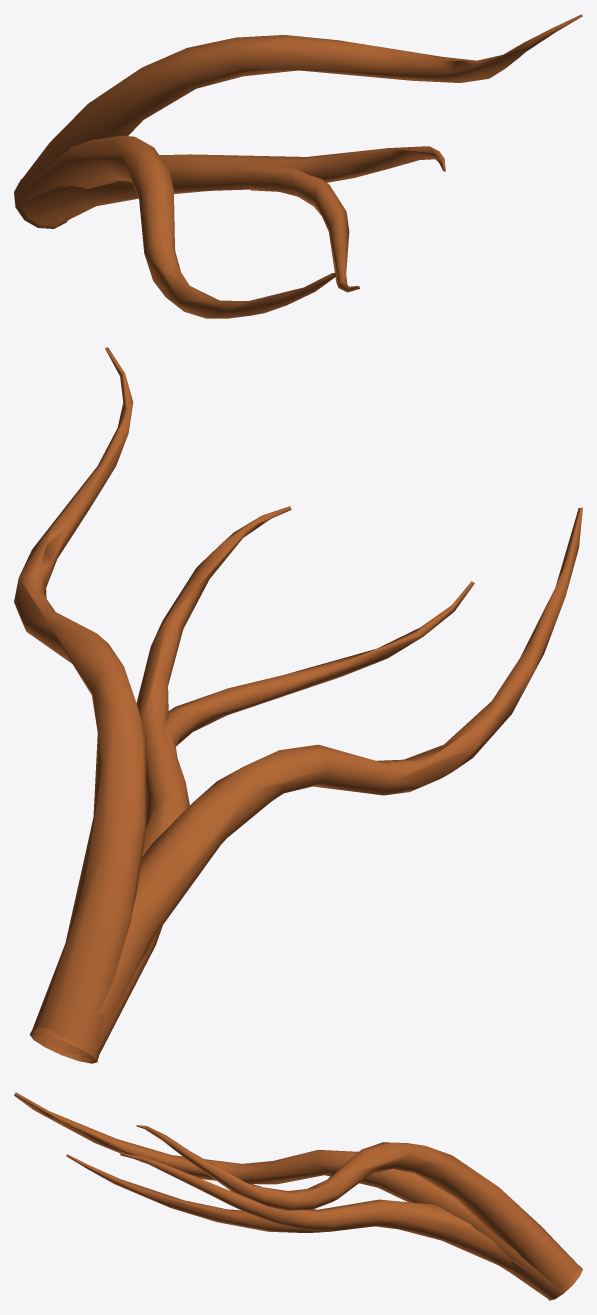
The model's file is arrayan_branch_4_LOD.fbx.
3 views of the same model, one above another, from view 1: azimuth 30°, elevation 25°; view 2: azimuth 150°, elevation 25°; view 3: azimuth 270°, elevation 25° (orthographic). The views are drawn at different scales.
Visible parts, largest first — view 1: brunch_4_LOD0; view 2: brunch_4_LOD0; view 3: brunch_4_LOD0.
Part boxes in pixels (x1,y1,x2,y2): brunch_4_LOD0: (14,14,582,318); brunch_4_LOD0: (14,347,582,1063); brunch_4_LOD0: (14,1092,582,1300).
Size of what is drawn, in the model's own units: 999 by 934 by 1825.
